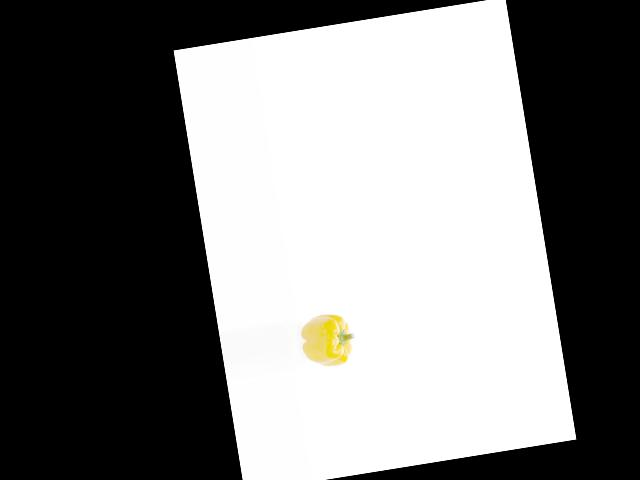bell_pepper: (296, 310, 360, 374)
